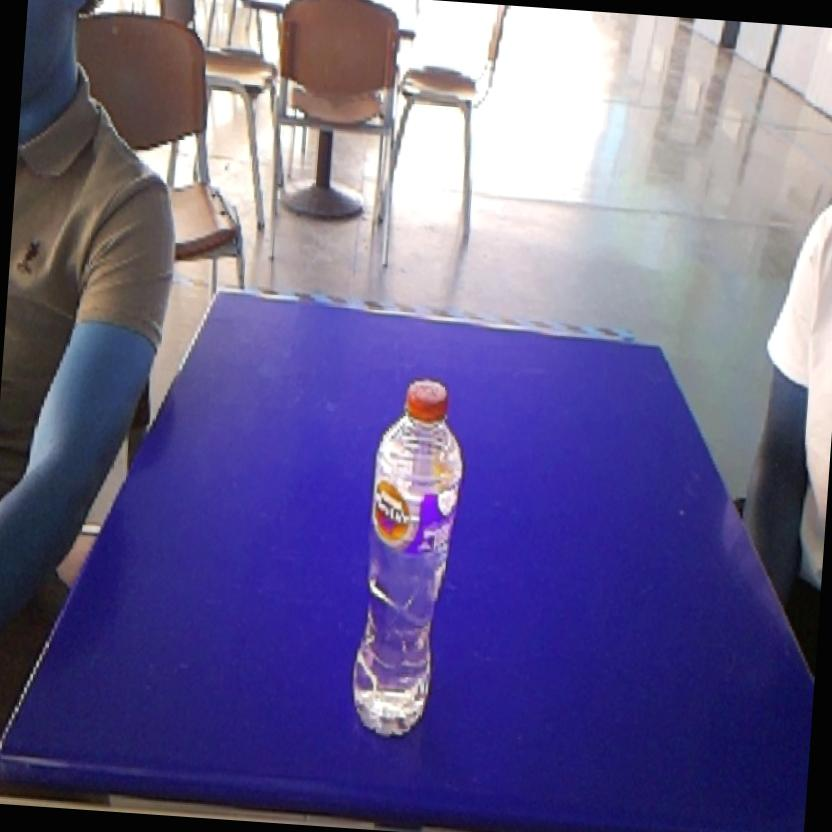good: (340, 355, 477, 750)
